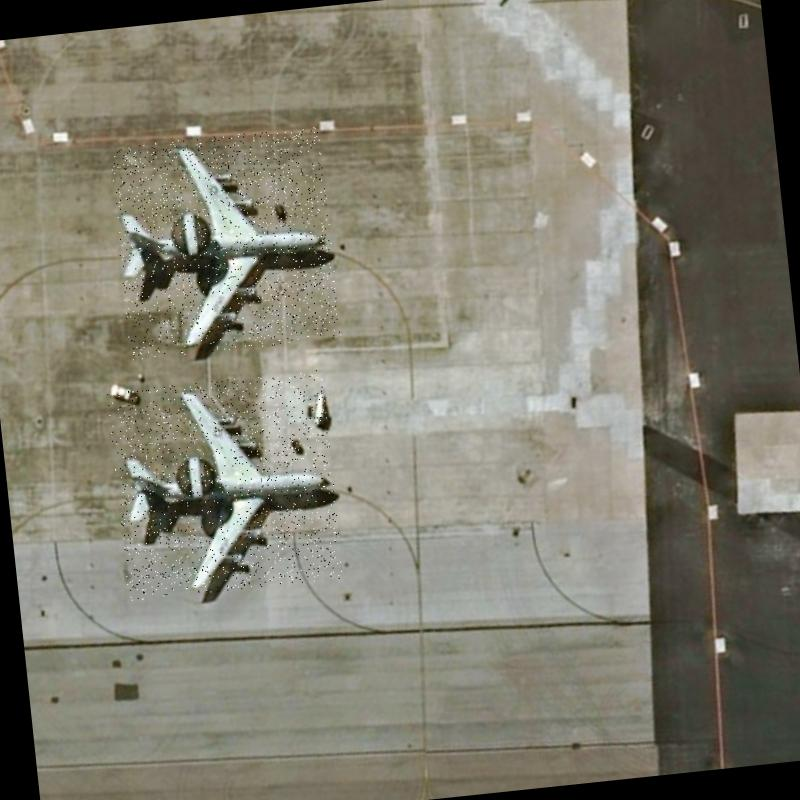A7: (106, 369, 344, 600), (108, 125, 341, 360)
